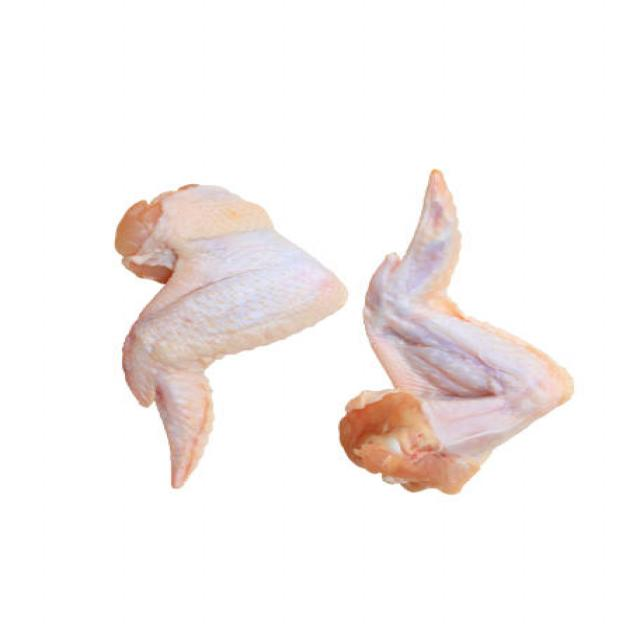Chicken: (346, 166, 576, 495), (106, 179, 340, 490)
